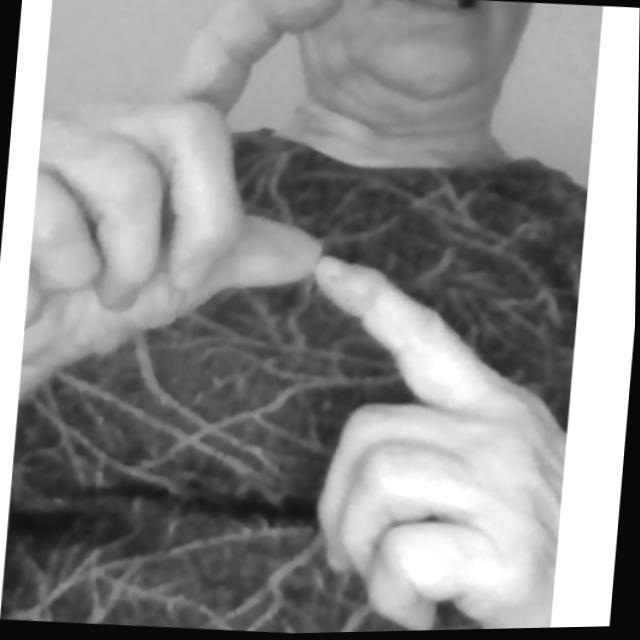S_: (0, 0, 603, 640)
